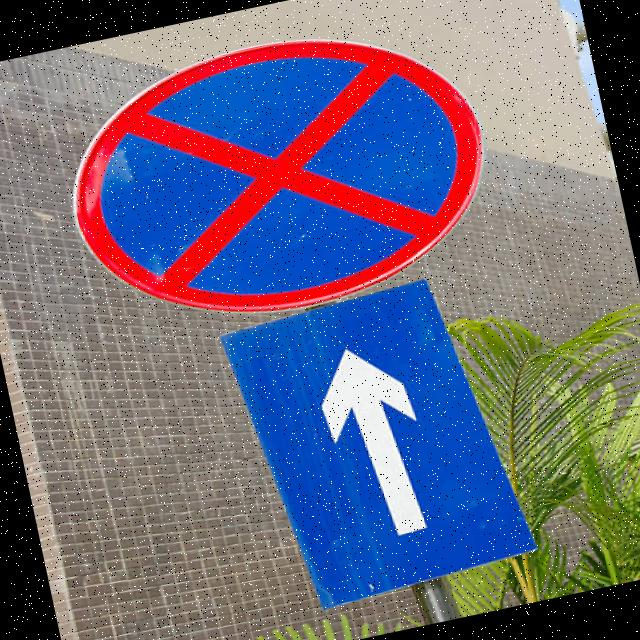no_parking: (23, 0, 514, 357)
